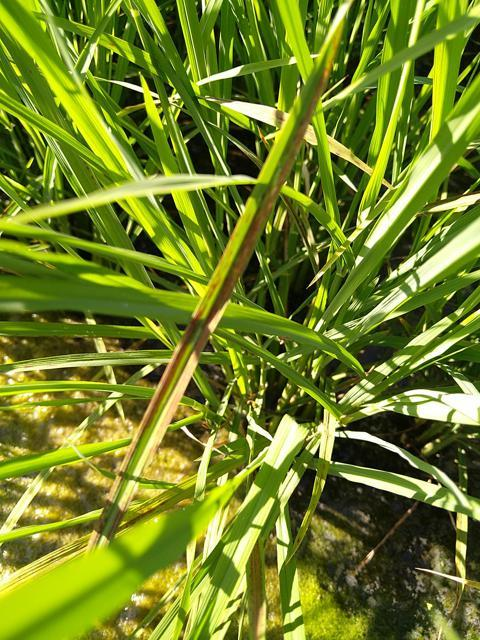Leaf Streak: (86, 39, 336, 555)
